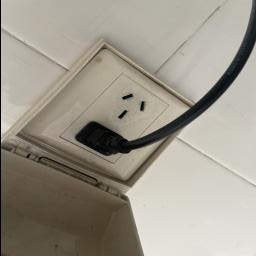outlet: (8, 35, 220, 197)
